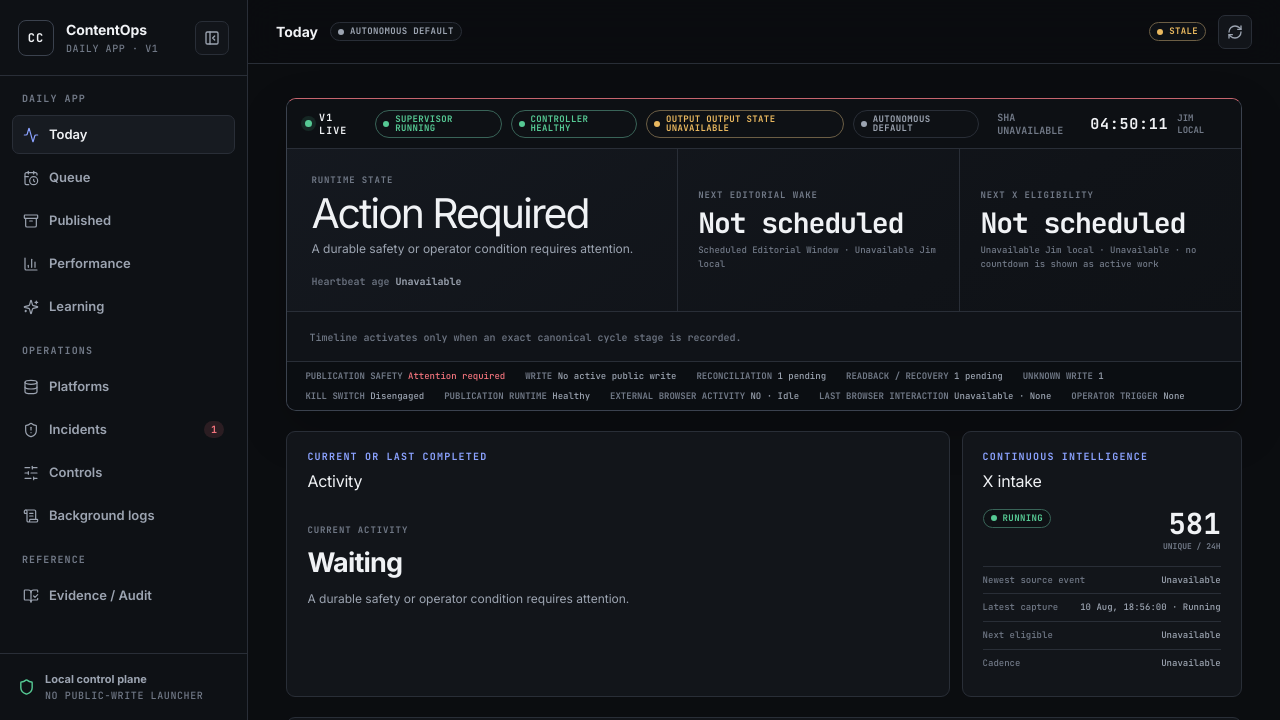
Scenario: Final Daily App production console › renders unavailable native metrics and configured bootstrap as unavailable/not learned
Step 1. Click the button "Performance" → click(124, 264), box 12,244 -> 235,283
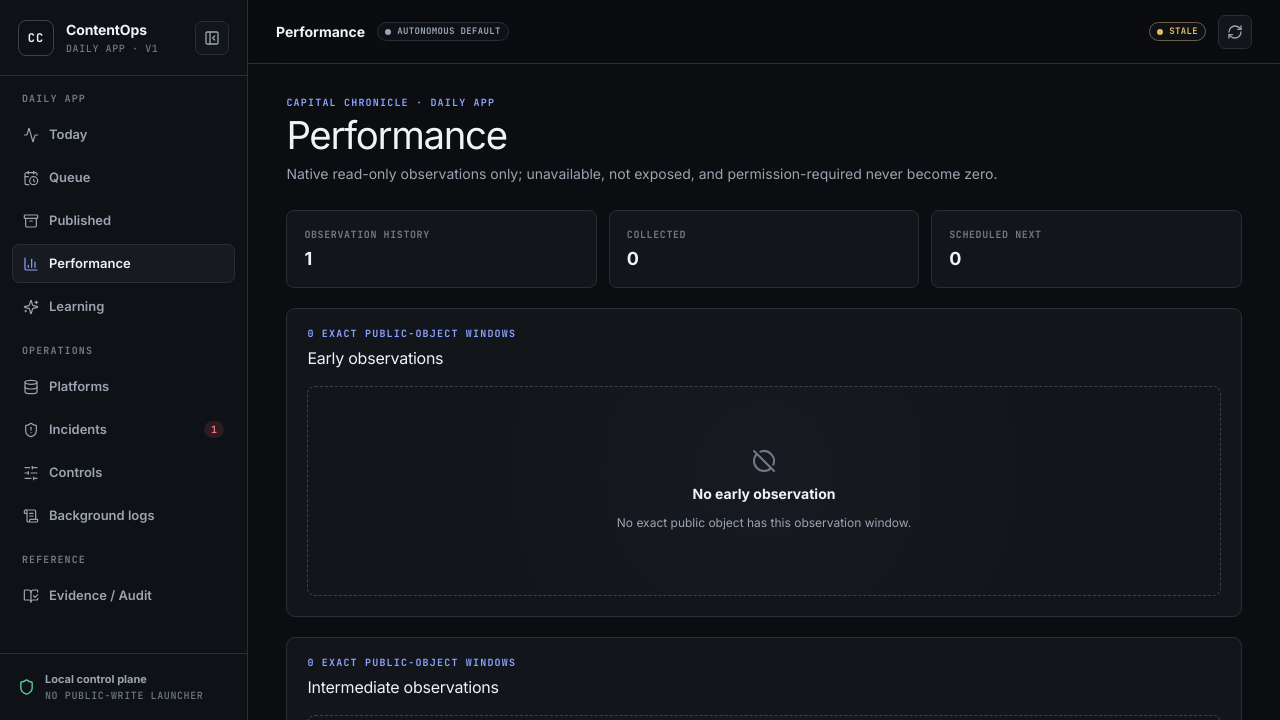
Step 2. Click the button "Learning" → click(124, 306), box 12,287 -> 235,326
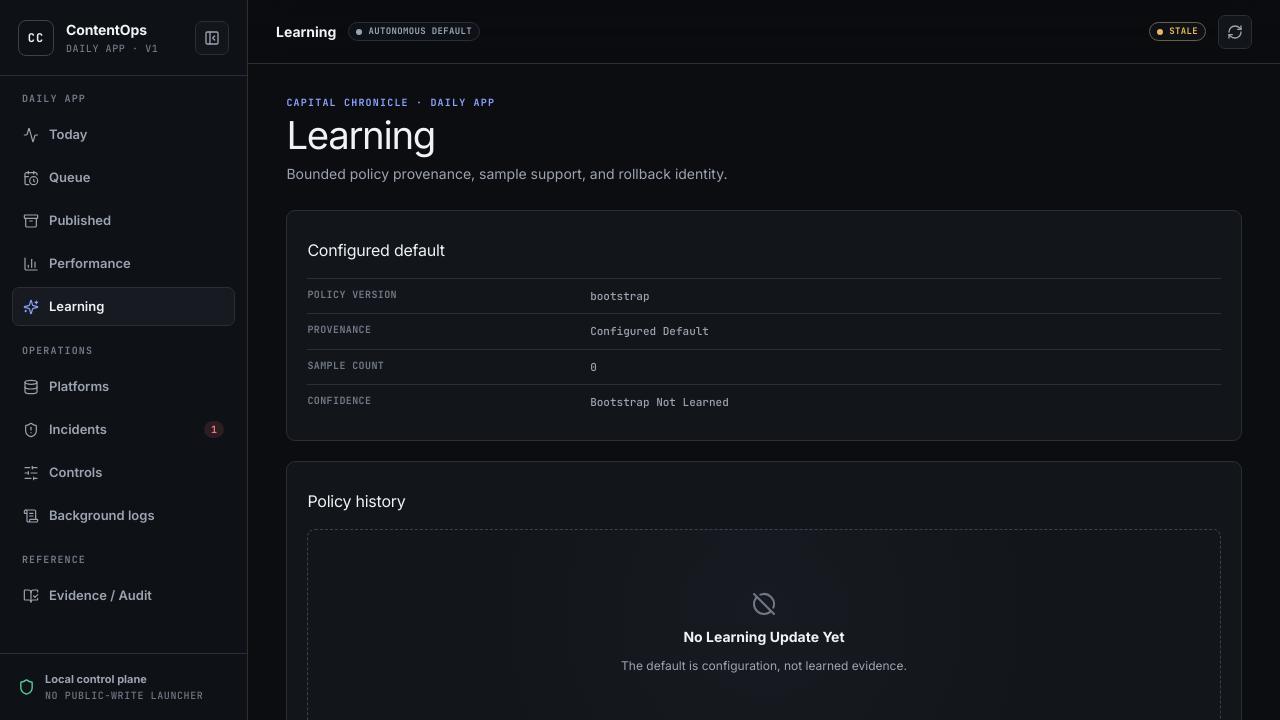
expect the heading "Configured default" is shown: met, box 307,240 -> 445,260
expect the text "Bootstrap Not Learned" is shown: met, box 590,395 -> 729,409
